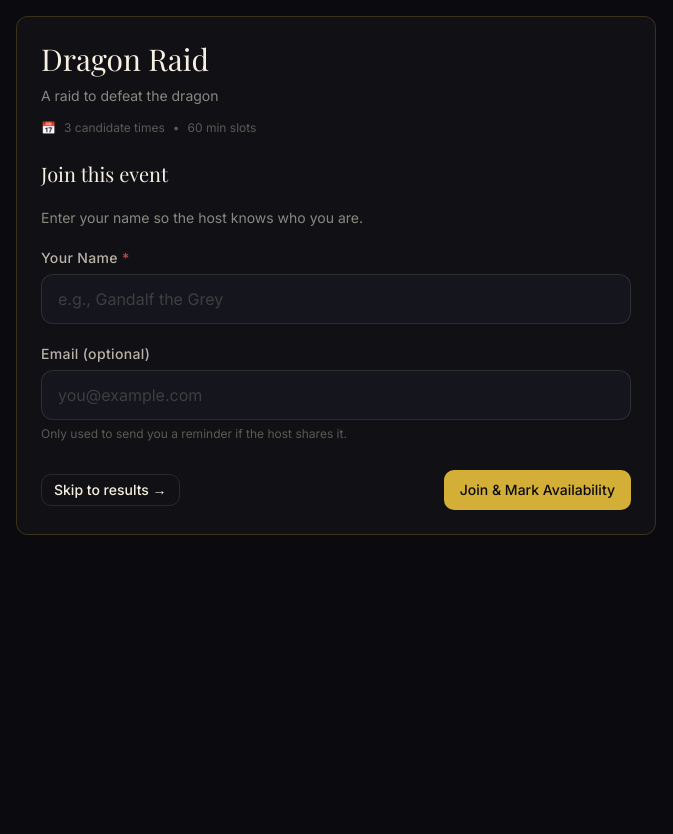
PublicEventPage › join participant reads participantToken and moves to availability step
Expected: the heading "Join this event" is shown, top-left (41, 160), bottom-right (168, 187)
Type "Gandalf" into the field labelled "Your Name*". click: (336, 299)
box: top-left (41, 274), bottom-right (631, 324)
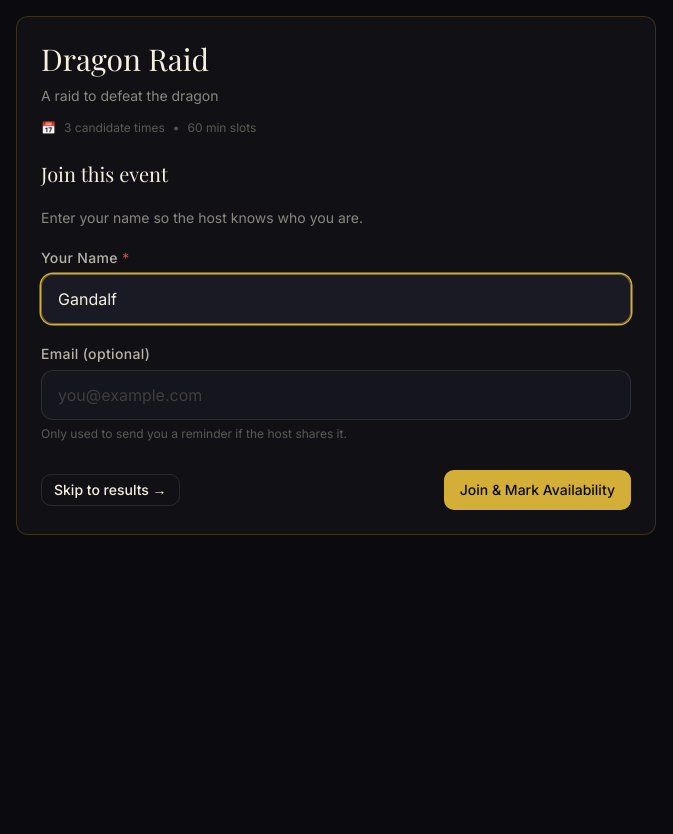
Click the button "Join & Mark Availability". click: (537, 490)
box: top-left (444, 470), bottom-right (631, 510)
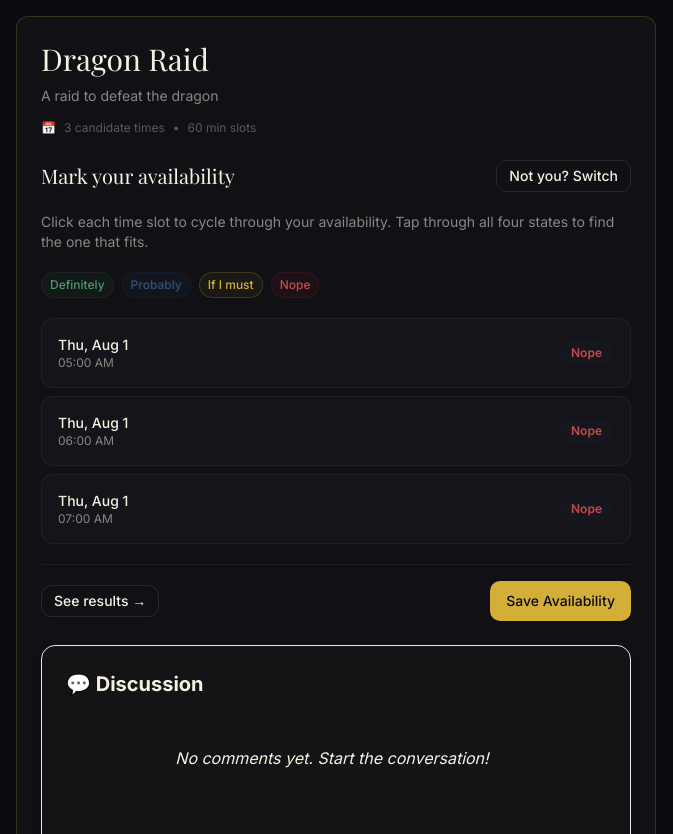
Now the heading "Mark your availability" is shown, box top-left (41, 162), bottom-right (235, 190)
